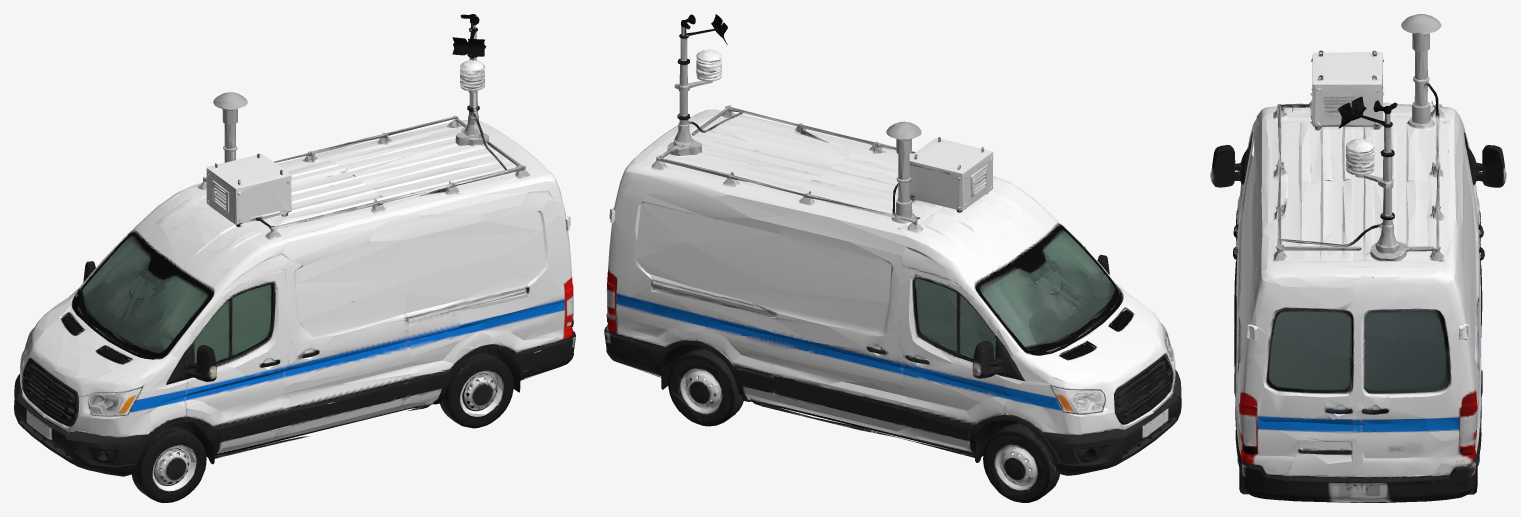
File: car_air.glb
3 views of the same model, side by side, from view 1: azimuth 30°, elevation 25°; view 2: azimuth 150°, elevation 25°; view 3: azimuth 270°, elevation 25° (orthographic). The views are drawn at different scales.
Size of the model in its own units: 1.9 by 1.3 by 0.8312.
Materials: 1 (1 with a texture image).
